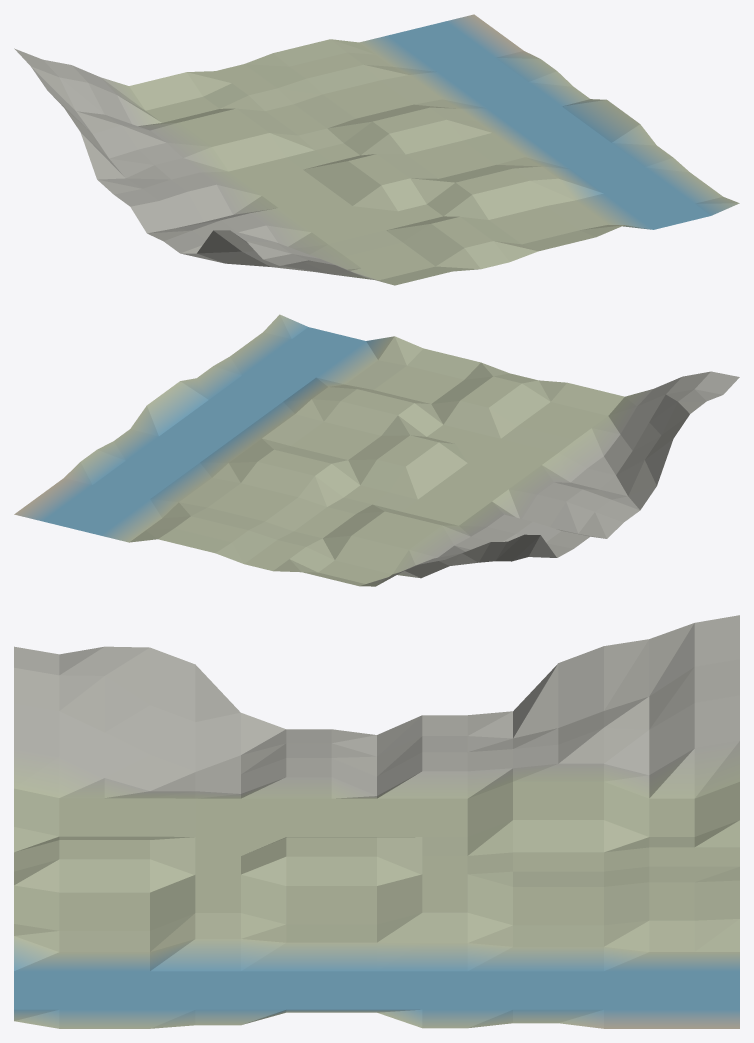
3 views of the same model, one above another, from view 1: azimuth 30°, elevation 25°; view 2: azimuth 150°, elevation 25°; view 3: azimuth 270°, elevation 25° (orthographic). The views are drawn at different scales.
Bounding box in the file's own units: 32 × 6 × 32.
